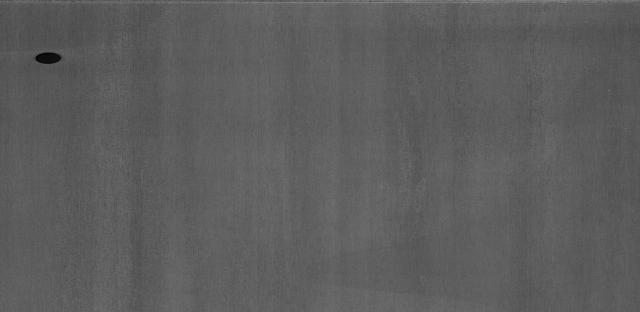punching_hole: (32, 48, 65, 68)
